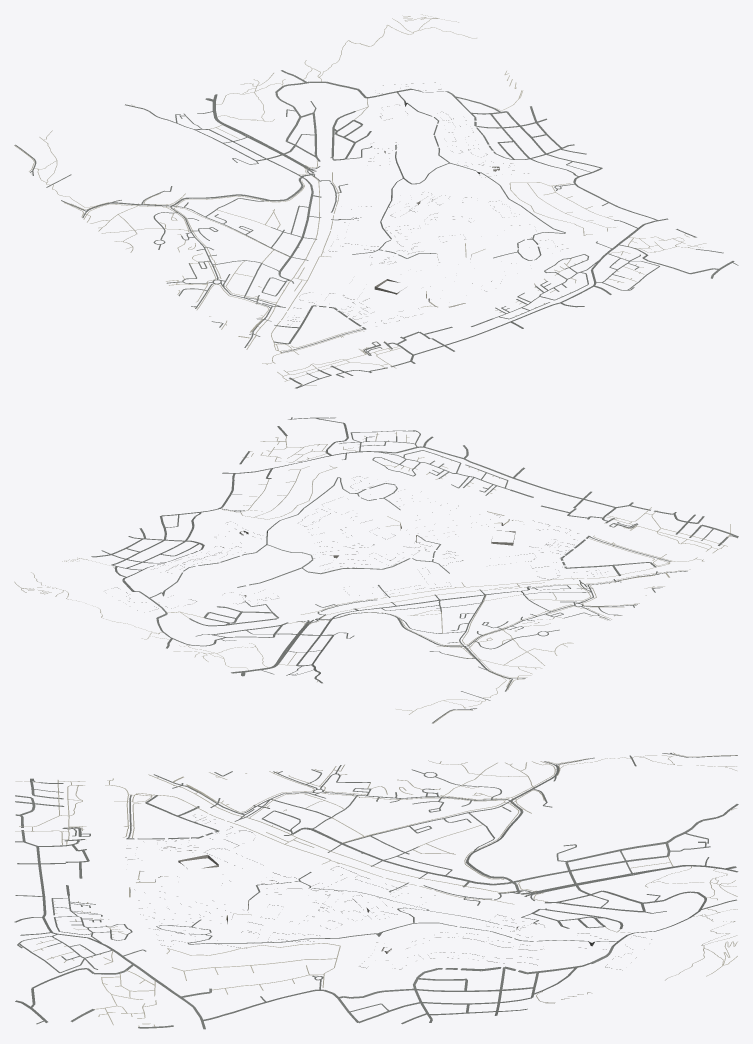
3 renders of one model, top to bottom at view 1: azimuth 30°, elevation 25°; view 2: azimuth 150°, elevation 25°; view 3: azimuth 270°, elevation 25°, orthographic. The views are drawn at different scales.
Visible parts, largest first — view 1: ewha-asphalt-overlay, ewha-paving-overlay, site-concrete; view 2: ewha-asphalt-overlay, ewha-paving-overlay, site-concrete; view 3: ewha-asphalt-overlay, ewha-paving-overlay, site-concrete.
Part boxes in pixels (bbox=[...]): ewha-asphalt-overlay: bbox=[15, 70, 738, 388]; ewha-paving-overlay: bbox=[14, 14, 706, 385]; site-concrete: bbox=[287, 82, 568, 326]; ewha-asphalt-overlay: bbox=[91, 417, 738, 723]; ewha-paving-overlay: bbox=[14, 431, 730, 723]; site-concrete: bbox=[105, 476, 607, 612]; ewha-asphalt-overlay: bbox=[14, 753, 738, 1029]; ewha-paving-overlay: bbox=[15, 752, 737, 1028]; site-concrete: bbox=[125, 814, 651, 970].
Size of the model in its own units: 1139 by 149 by 1330.
8 materials, 4 textured.
